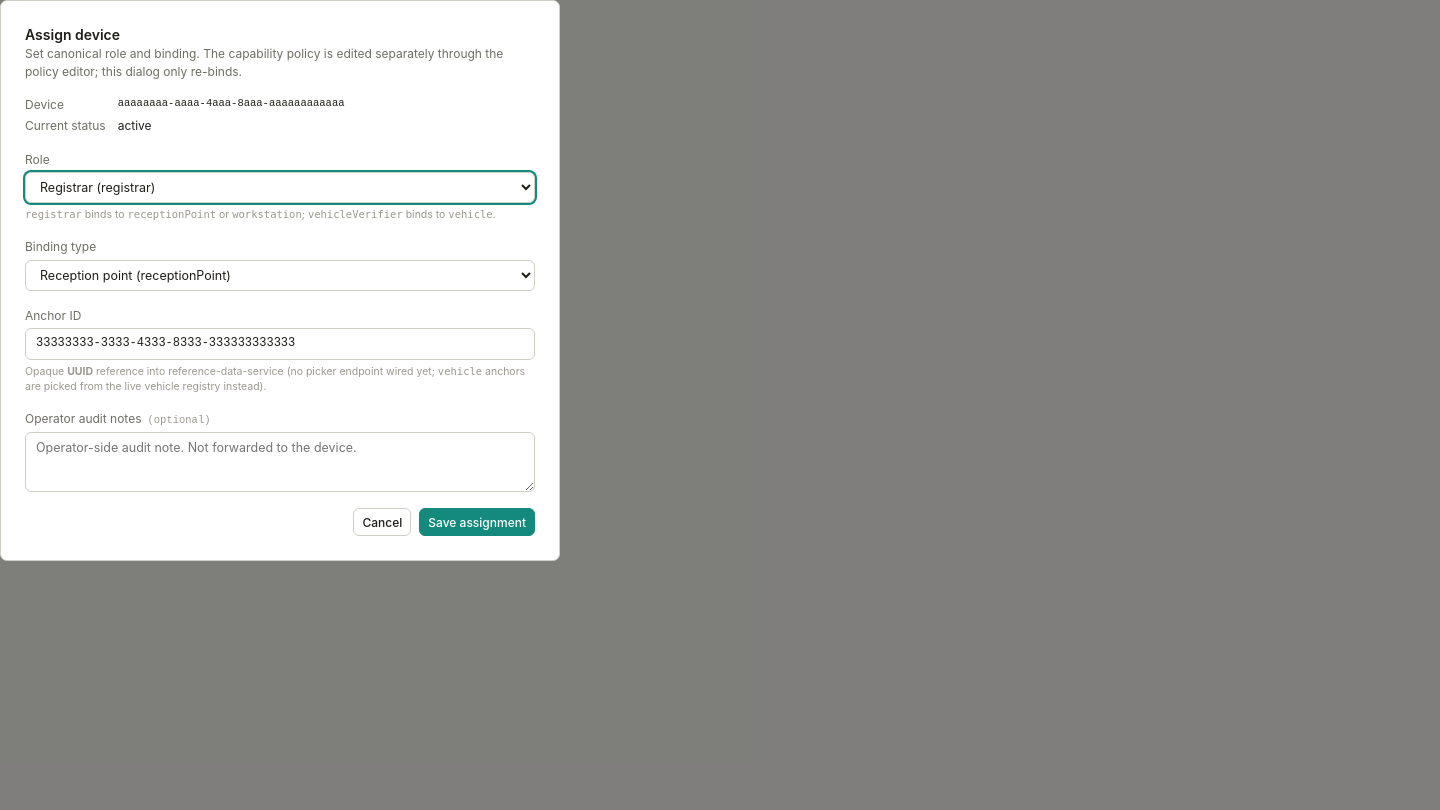
Test case: assign dialog · vehicle anchor picker › says so explicitly when the registry returns no vehicles
Select "Vehicle verifier (vehicleVerifier)" in the dropdown labelled "Role" at (280, 188), box x1=25 y1=172 x2=535 y2=203
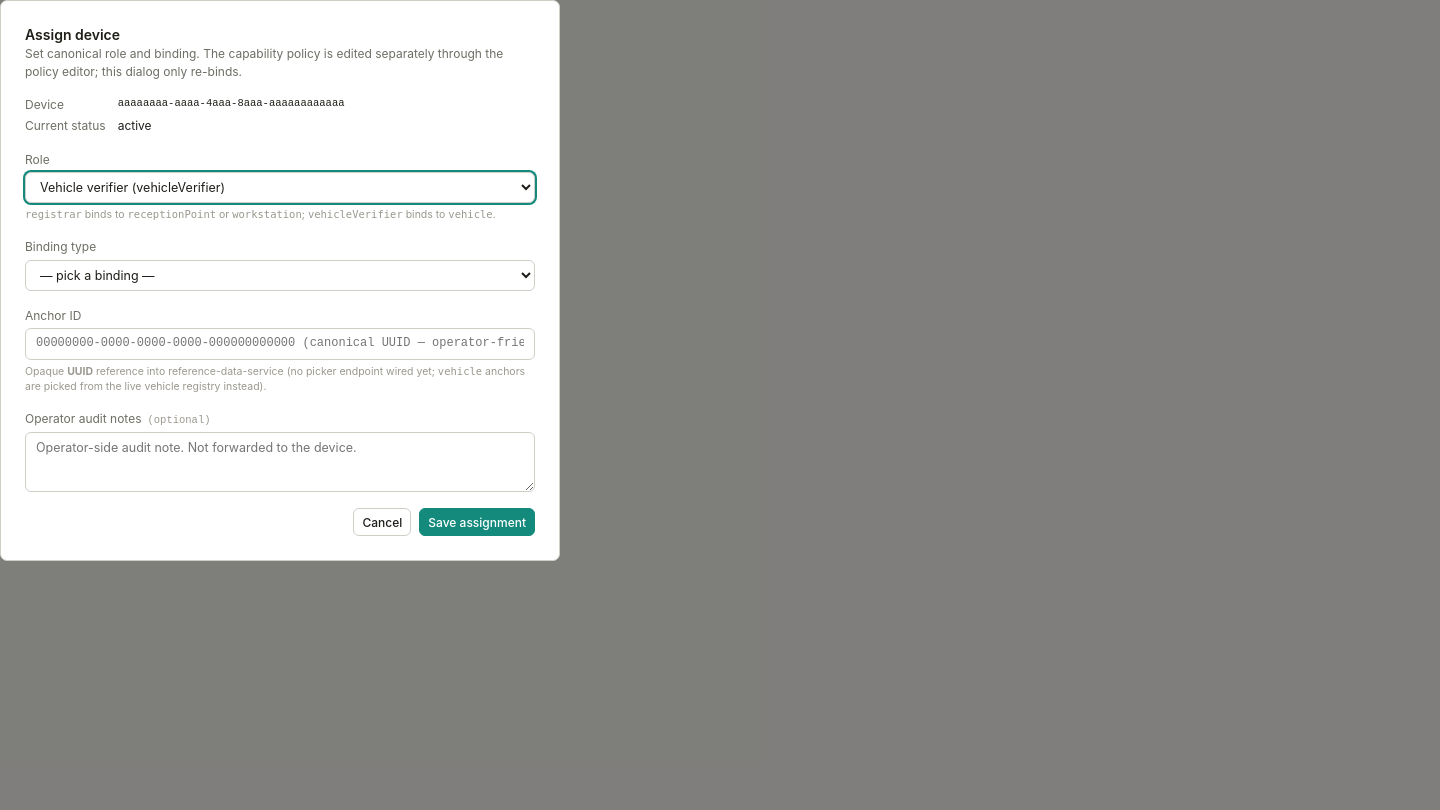
Select "Vehicle (vehicle)" in the dropdown labelled "Binding type" at (280, 275), box x1=25 y1=260 x2=535 y2=291
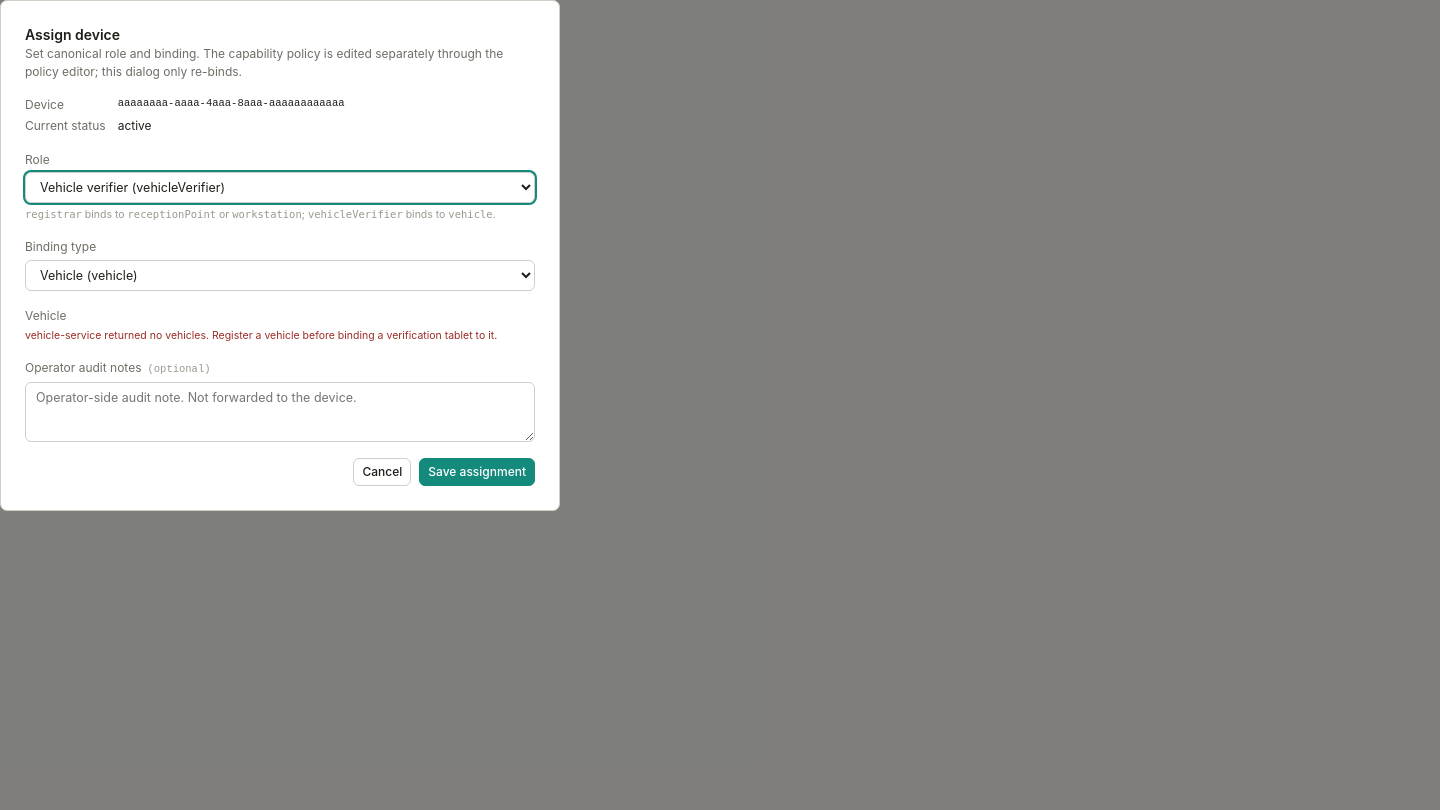
Result: the text "returned no vehicles" is shown at x1=25 y1=329 x2=497 y2=342
